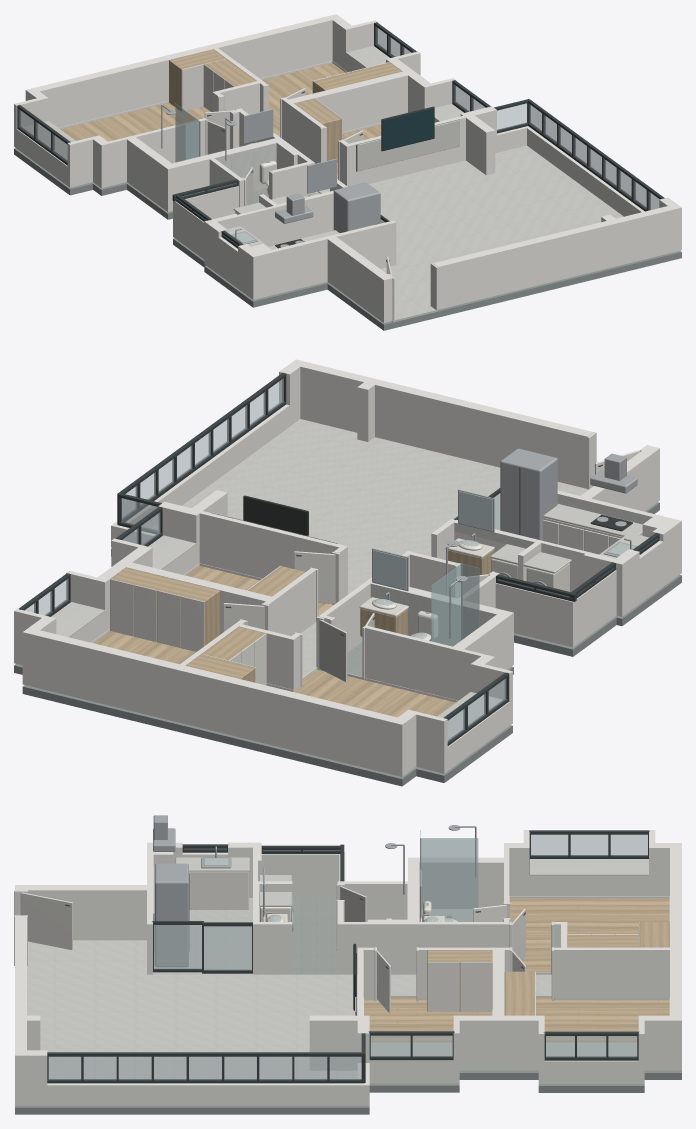
File: architecture-cut.glb
The picture shows the model from 3 angles, top to bottom: view 1: azimuth 30°, elevation 25°; view 2: azimuth 150°, elevation 25°; view 3: azimuth 270°, elevation 25°; orthographic projection. The views are drawn at different scales.
Visible parts, largest first — view 1: 剖切墙_0.00_00, 客餐厅阳台及过道_地面, 剖切墙_0.50_04, 剖切墙_0.50_00, 住宅楼板, 剖切墙_0.95_00, 剖切墙_0.50_02, 剖切墙_0.95_04, 剖切墙_0.50_01, 剖切墙_0.95_02, 剖切墙_0.45_00, 主卧与开放衣帽间_地面 (+26 smaller); view 2: 剖切墙_0.00_00, 客餐厅阳台及过道_地面, 剖切墙_0.50_04, 剖切墙_0.50_00, 剖切墙_0.95_00, 住宅楼板, 剖切墙_0.50_02, 剖切墙_0.95_04, 对开门冰箱_家电占位, 剖切墙_0.95_02, 剖切墙_0.45_00, 主卧与开放衣帽间_地面 (+39 smaller); view 3: 客餐厅阳台及过道_地面, 剖切墙_0.00_00, 剖切墙_0.50_04, 住宅楼板, 主卧与开放衣帽间_地面, 剖切墙_0.95_04, 主卫淋浴_东玻璃, 剖切墙_0.95_00, 长辈房_地面, 剖切墙_0.50_00, 厨房_地面, 公卫湿区与盥洗晾晒_地面 (+53 smaller).
Part boxes in pixels (left/top/right/bottom): 剖切墙_0.00_00: left=14, top=45, right=681, bottom=322; 客餐厅阳台及过道_地面: left=315, top=145, right=623, bottom=322; 剖切墙_0.50_04: left=67, top=117, right=396, bottom=303; 剖切墙_0.50_00: left=14, top=26, right=373, bottom=128; 住宅楼板: left=14, top=148, right=681, bottom=330; 剖切墙_0.95_00: left=14, top=14, right=377, bottom=111; 剖切墙_0.50_02: left=438, top=206, right=681, bottom=290; 剖切墙_0.95_04: left=67, top=109, right=314, bottom=186; 剖切墙_0.50_01: left=282, top=59, right=452, bottom=149; 剖切墙_0.95_02: left=433, top=197, right=681, bottom=272; 剖切墙_0.45_00: left=14, top=43, right=496, bottom=305; 主卧与开放衣帽间_地面: left=60, top=103, right=210, bottom=141; 剖切墙_0.00_00: left=14, top=397, right=681, bottom=776; 客餐厅阳台及过道_地面: left=152, top=419, right=588, bottom=676; 剖切墙_0.50_04: left=334, top=455, right=681, bottom=701; 剖切墙_0.50_00: left=14, top=618, right=447, bottom=752; 剖切墙_0.95_00: left=14, top=608, right=447, bottom=731; 住宅楼板: left=14, top=502, right=681, bottom=786; 剖切墙_0.50_02: left=279, top=374, right=587, bottom=464; 剖切墙_0.95_04: left=318, top=551, right=513, bottom=680; 对开门冰箱_家电占位: left=500, top=448, right=557, bottom=540; 剖切墙_0.95_02: left=279, top=359, right=593, bottom=443; 剖切墙_0.45_00: left=14, top=477, right=681, bottom=755; 主卧与开放衣帽间_地面: left=294, top=669, right=455, bottom=717; 客餐厅阳台及过道_地面: left=27, top=940, right=551, bottom=1078; 剖切墙_0.00_00: left=15, top=877, right=681, bottom=1105; 剖切墙_0.50_04: left=46, top=852, right=529, bottom=951; 住宅楼板: left=15, top=1070, right=681, bottom=1114; 主卧与开放衣帽间_地面: left=509, top=898, right=669, bottom=972; 剖切墙_0.95_04: left=337, top=830, right=529, bottom=931; 主卫淋浴_东玻璃: left=421, top=838, right=478, bottom=921; 剖切墙_0.95_00: left=553, top=830, right=681, bottom=1040; 长辈房_地面: left=536, top=997, right=669, bottom=1041; 剖切墙_0.50_00: left=553, top=855, right=681, bottom=1061; 厨房_地面: left=153, top=898, right=252, bottom=974; 公卫湿区与盥洗晾晒_地面: left=292, top=898, right=337, bottom=974.
Size of the model in its own units: 10.62 by 2.43 by 13.28.
23 materials, 7 textured.
